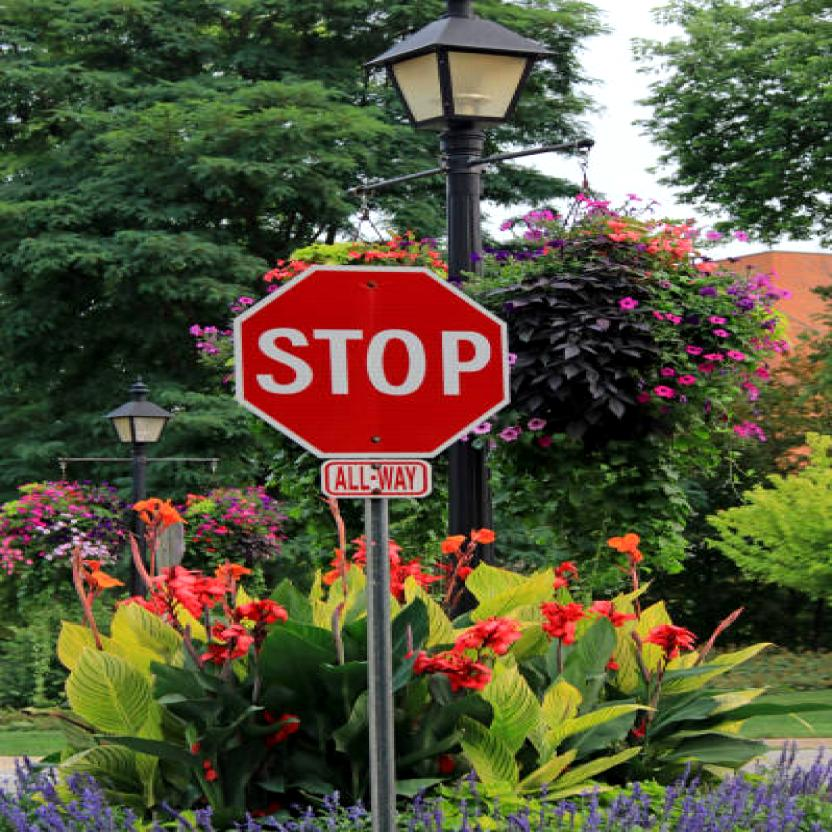Pole: (359, 496, 400, 832)
Sign: (233, 266, 510, 454)
